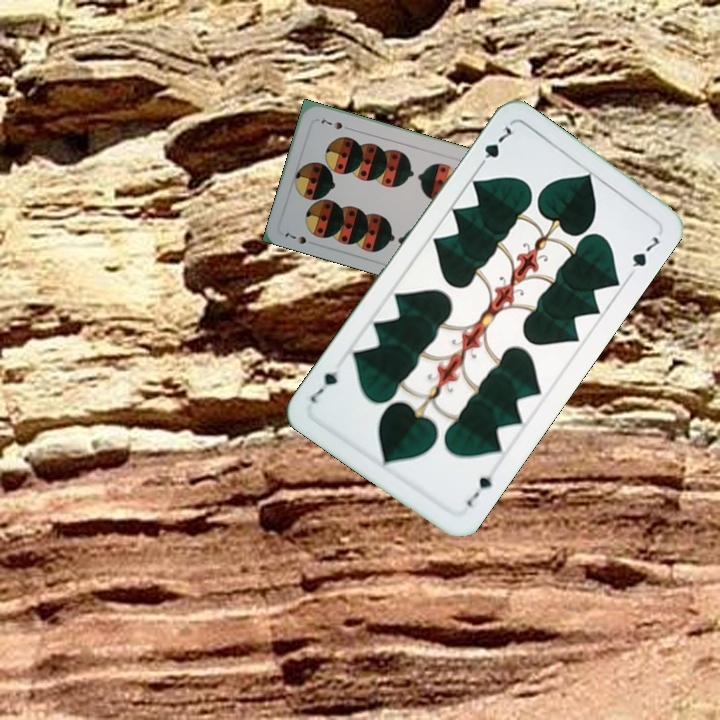G7: (473, 123, 517, 173), (462, 472, 495, 510)
S7: (281, 227, 319, 248)
